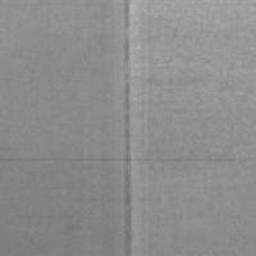Welding line: (123, 0, 133, 256)
